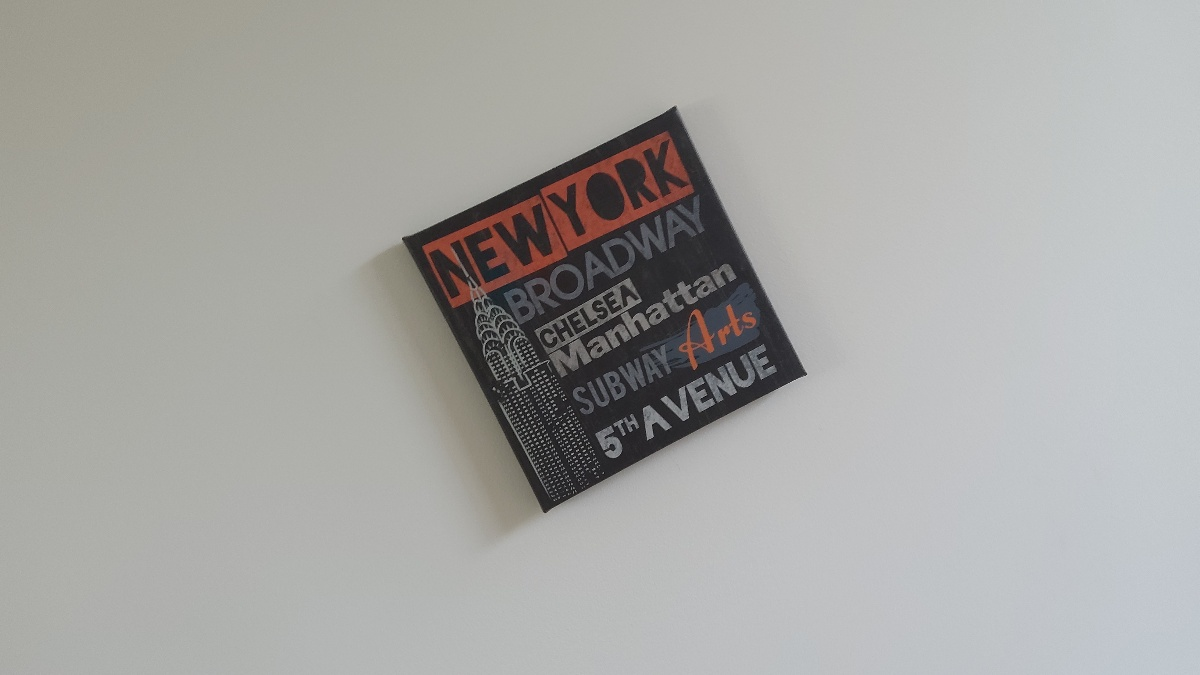poster: (390, 94, 811, 520)
